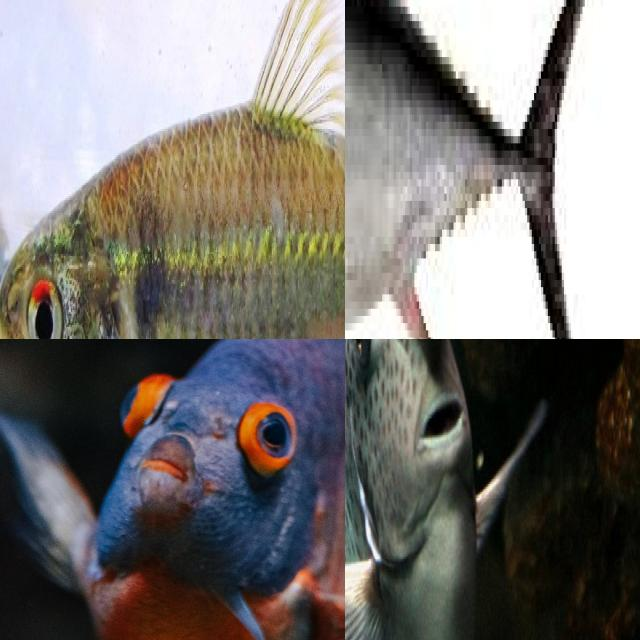fish: (0, 0, 345, 339), (32, 339, 345, 640), (345, 0, 616, 339), (345, 339, 548, 640)
